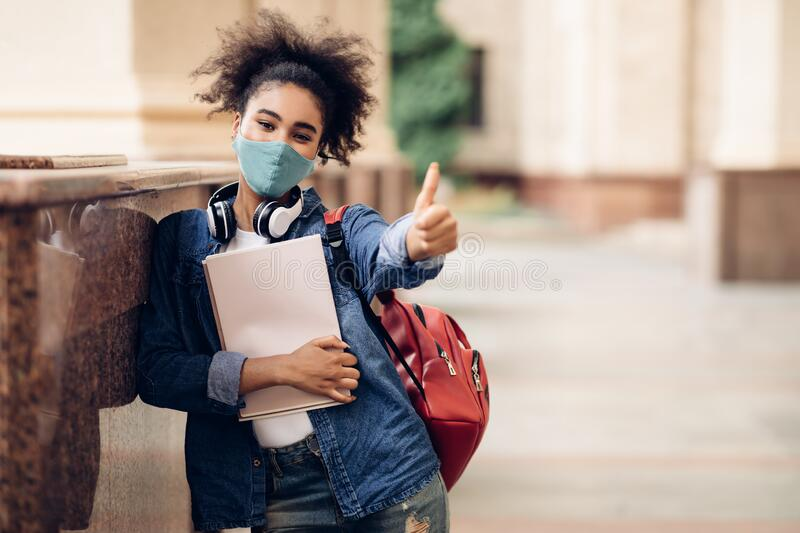mask: (231, 133, 318, 196)
person: (147, 17, 464, 533)
